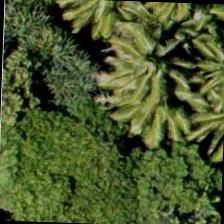Kelapa_Sawit: (110, 48, 203, 141), (110, 12, 202, 105), (178, 9, 223, 103)
